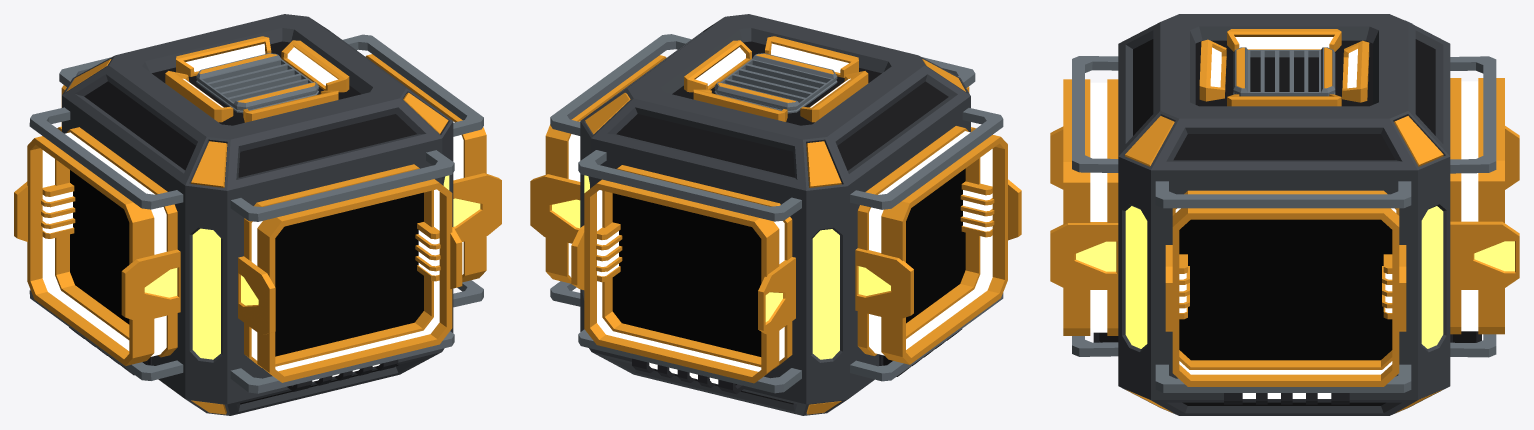
File: SM_Coveyor_splitter.glb
3 renders of one model, left to right at view 1: azimuth 30°, elevation 25°; view 2: azimuth 150°, elevation 25°; view 3: azimuth 270°, elevation 25°, orthographic. The views are drawn at different scales.
Parts seen in each view (by area): view 1: SM_Coveyor_splitter; view 2: SM_Coveyor_splitter; view 3: SM_Coveyor_splitter.
Boxes of the visible parts, bbox=[...] form: SM_Coveyor_splitter: bbox=[14, 14, 501, 415]; SM_Coveyor_splitter: bbox=[530, 14, 1021, 415]; SM_Coveyor_splitter: bbox=[1050, 14, 1519, 415].
Bounding box in the file's own units: 2.69 × 1.89 × 2.69.
Materials: 3 (1 with a texture image).
